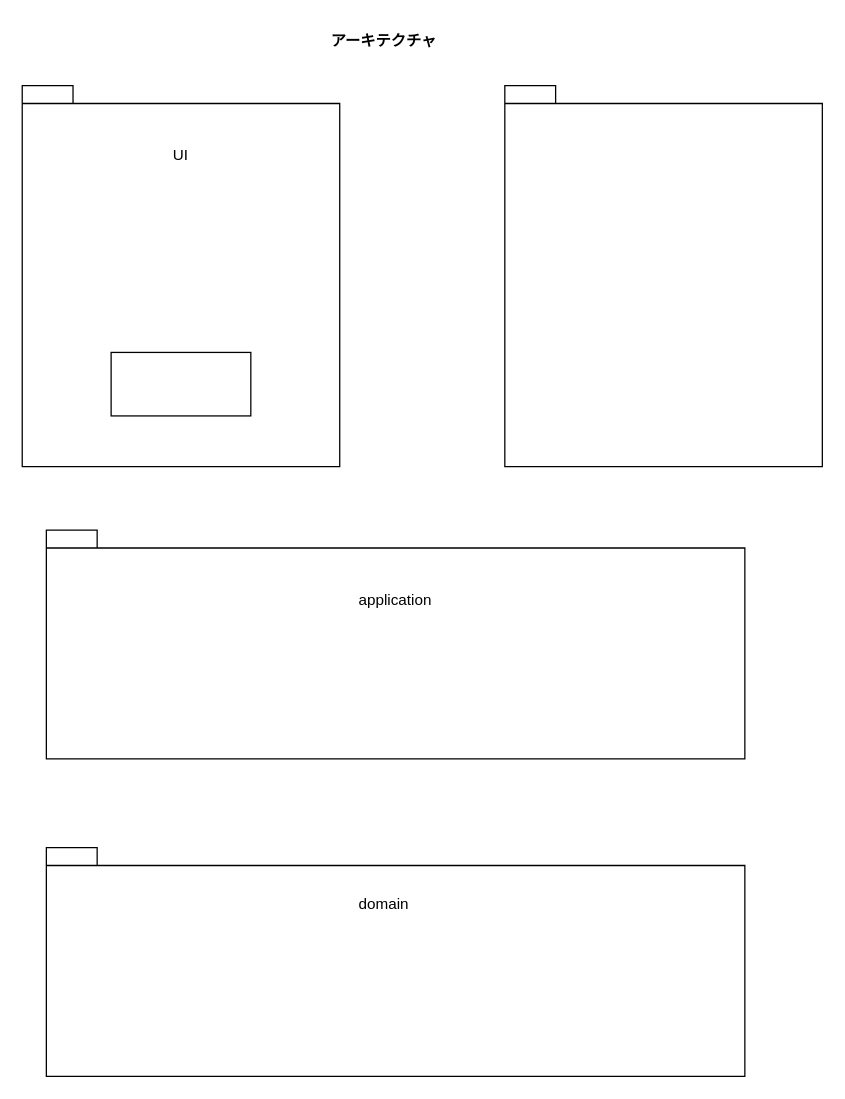
Some shapes in this 845 by 1099 pixel diagram are drawn without their labels. The box of each missing label's shape, as (x1, y1, x2, y2) in pixels:
infrastracture: (504, 84, 822, 467)
page: (110, 351, 251, 416)
